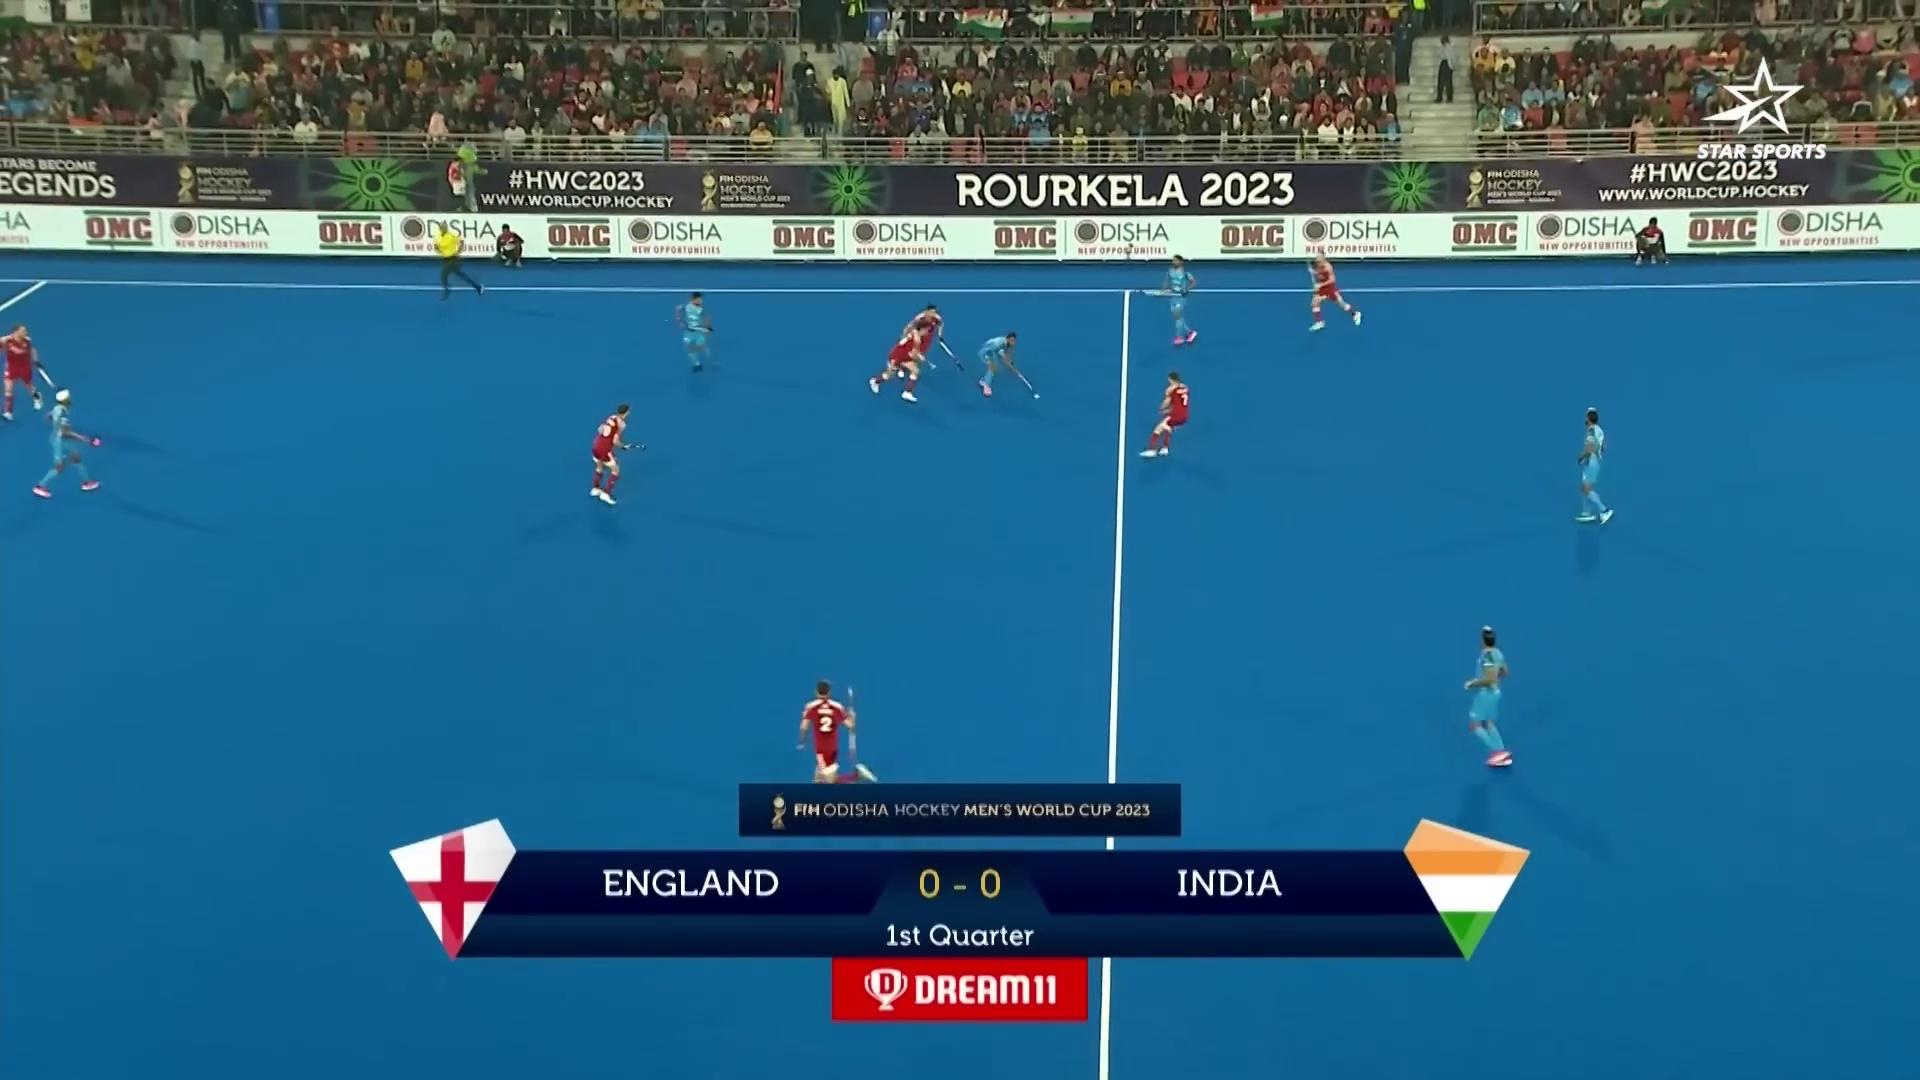ball: (1030, 386, 1045, 406)
